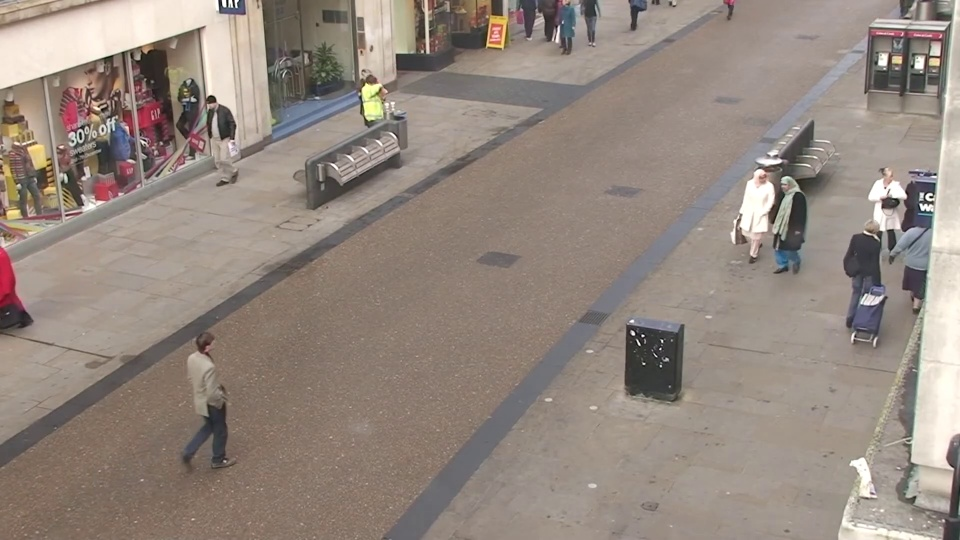pedestrian: (198, 315, 256, 461), (845, 210, 895, 332), (855, 164, 901, 274), (762, 174, 803, 285), (735, 164, 774, 274), (190, 95, 226, 183), (358, 72, 388, 154), (349, 67, 379, 149)
